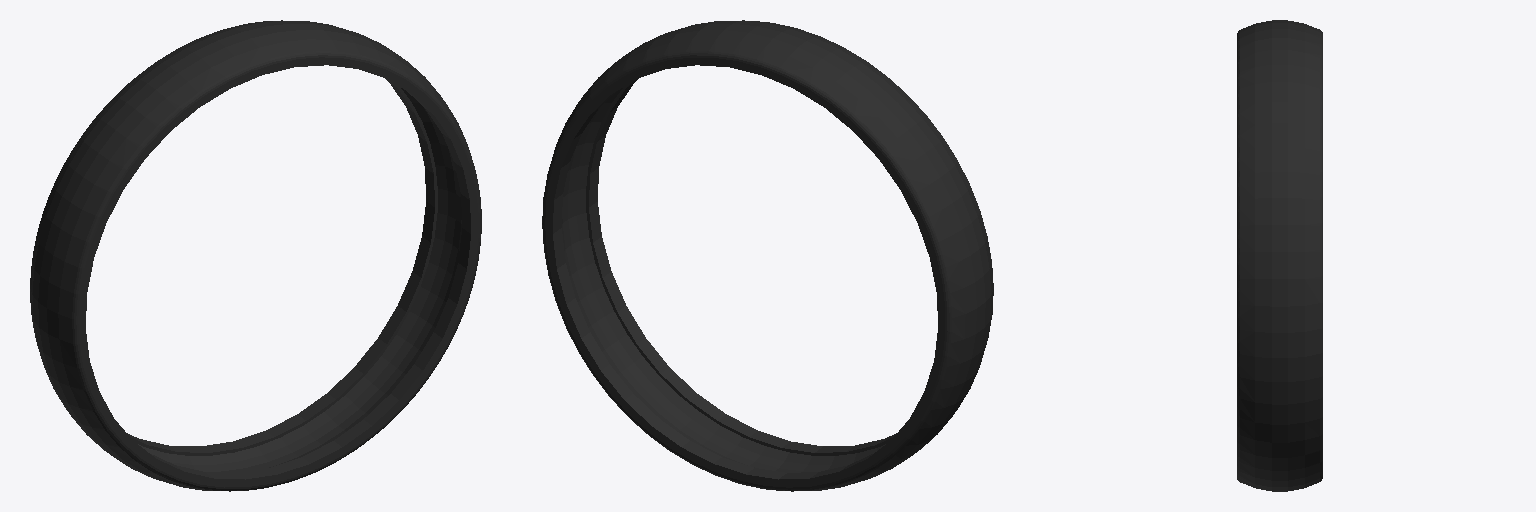
URDF robot description (wheel):
<?xml version="1.0" encoding="utf-8"?>
<!-- This URDF was automatically created by SolidWorks to URDF Exporter! Originally created by Stephen Brawner (brawner@gmail.com) 
     Commit Version: 1.6.0-4-g7f85cfe  Build Version: 1.6.7995.38578
     For more information, please see http://wiki.ros.org/sw_urdf_exporter -->
<robot
  name="wheel">
  <link
    name="base_link">
    <inertial>
      <origin
        xyz="-0.0209401994436368 -0.03468166025715 0.004580485435404"
        rpy="0 0 0" />
      <mass
        value="0.603804602107906" />
      <inertia
        ixx="0.000986438821104325"
        ixy="3.72843947434931E-07"
        ixz="0.000108532845784776"
        iyy="0.00133833127114958"
        iyz="2.25728945212652E-06"
        izz="0.000778588035048408" />
    </inertial>
    <visual>
      <origin
        xyz="0 0 0"
        rpy="0 0 0" />
      <geometry>
        <mesh
          filename="../meshes/base_link.STL" />
      </geometry>
      <material
        name="">
        <color
          rgba="0.894117647058823 0.894117647058823 0.894117647058823 1" />
      </material>
    </visual>
    <collision>
      <origin
        xyz="0 0 0"
        rpy="0 0 0" />
      <geometry>
        <mesh
	  filename="../meshes/base_link.STL" />
      </geometry>
    </collision>
  </link>
  <link
    name="empty_link">
    <inertial>
      <origin
        xyz="0 1.38777878078145E-17 -1.90819582357449E-17"
        rpy="0 0 0" />
      <mass
        value="0.0716105823136073" />
      <inertia
        ixx="0.000438013363634798"
        ixy="5.17559206309011E-20"
        ixz="-7.17073701408525E-20"
        iyy="0.000224580784697599"
        iyz="5.59041745187838E-20"
        izz="0.000224580784697599" />
    </inertial>
    <visual>
      <origin
        xyz="0 0 0"
        rpy="0 0 0" />
      <geometry>
        <mesh
          filename="../meshes/empty_link.STL" />
      </geometry>
      <material
        name="">
        <color
          rgba="0.223529411764706 0.223529411764706 0.223529411764706 1" />
      </material>
    </visual>
    <collision>
      <origin
        xyz="0 0 0"
        rpy="0 0 0" />
      <geometry>
        <mesh
          filename="../meshes/empty_link.STL" />
      </geometry>
    </collision>
  </link>
  <joint
    name="base_to_empty_link"
    type="continuous">
    <origin
      xyz="0.0067313 -1.0322 -0.053632"
      rpy="-1.6997 0 1.5708" />
    <parent
      link="base_link" />
    <child
      link="empty_link" />
    <axis
      xyz="0 0 0" />
  </joint>
</robot>

--- Render facts (derived) ---
The picture shows the robot from 3 angles, left to right: view 1: azimuth 30°, elevation 25°; view 2: azimuth 150°, elevation 25°; view 3: azimuth 270°, elevation 25°; orthographic projection.
Model wheel with 2 links and 1 joints (1 continuous), rooted at base_link, posed all joints at 0.
Links seen in each view (by area): view 1: empty_link; view 2: empty_link; view 3: empty_link.
Boxes of the visible links, box(x1,y1,x2,y2) form: empty_link: box(30, 20, 481, 491); empty_link: box(542, 20, 993, 491); empty_link: box(1237, 20, 1322, 491).
Bounding box of the posed robot: 0.1637 × 0.03 × 0.1636 m (x, y, z).
1 mesh visuals loaded from 2 distinct referenced files (1 binary STL); not drawn: 1 (reference not matched to a file when rendering).
